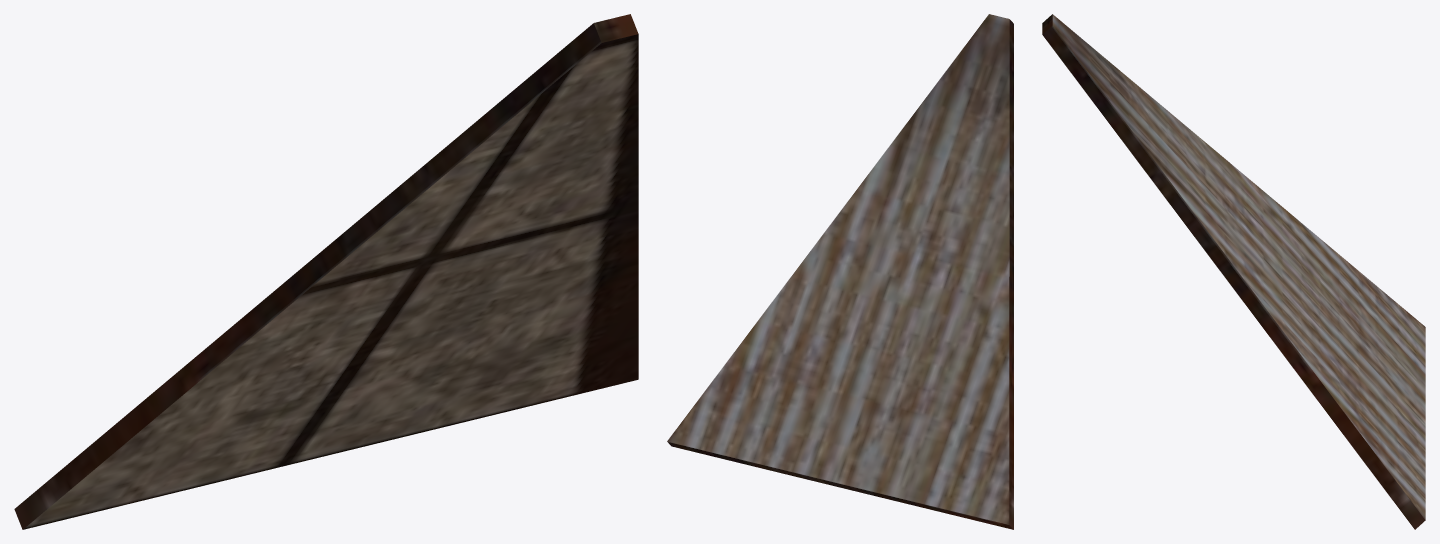
File: metal_roof_triangle_textured.glb
The picture shows the model from 3 angles, left to right: view 1: azimuth 30°, elevation 25°; view 2: azimuth 150°, elevation 25°; view 3: azimuth 270°, elevation 25°; orthographic projection. The views are drawn at different scales.
Visible parts, largest first — view 1: Plane.001; view 2: Plane.001; view 3: Plane.001.
Boxes of the visible parts, x1,y1,x2,y2 form: Plane.001: (14, 14, 638, 529); Plane.001: (667, 14, 1013, 529); Plane.001: (1042, 14, 1425, 529).
Size of the model in its own units: 2.08 by 2.08 by 1.74.
Materials: 1 (1 with a texture image).
